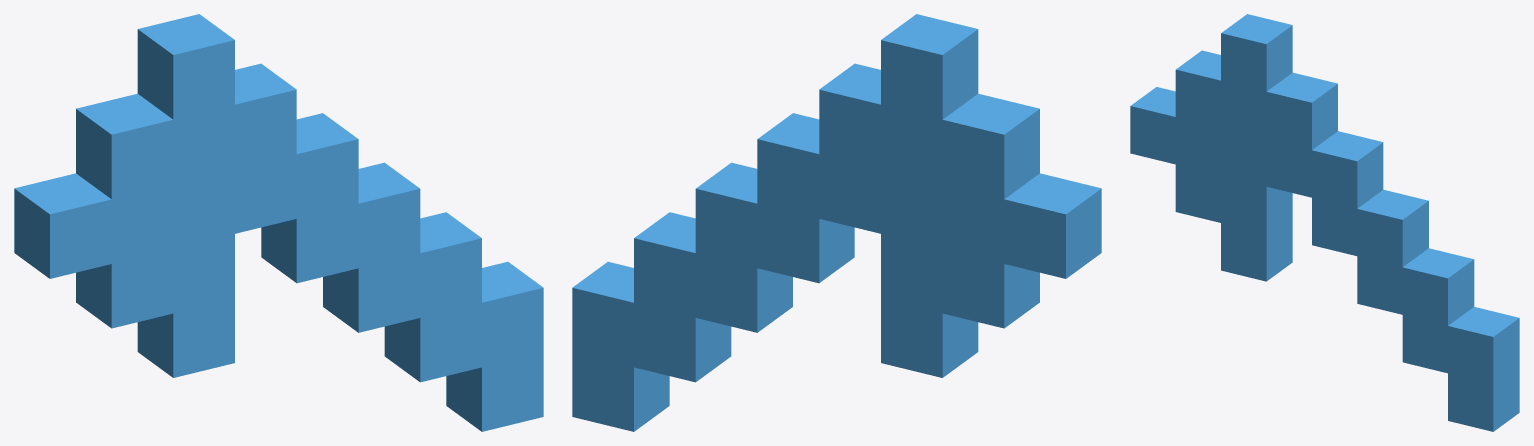
File: Axe-Blue.vox.obj
3 renders of one model, left to right at view 1: azimuth 30°, elevation 25°; view 2: azimuth 150°, elevation 25°; view 3: azimuth 330°, elevation 25°, orthographic. The views are drawn at different scales.
Bounding box in the file's own units: 0.8 × 0.7 × 0.1.
1 material, 1 textured.
